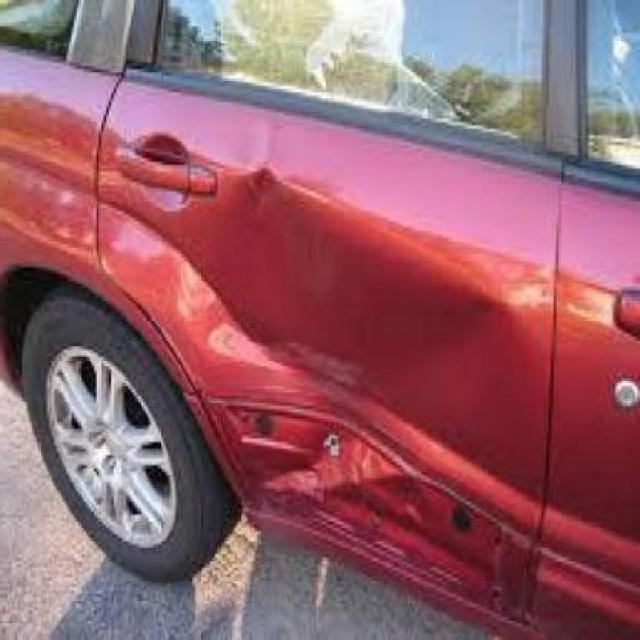damage: (102, 168, 523, 606)
